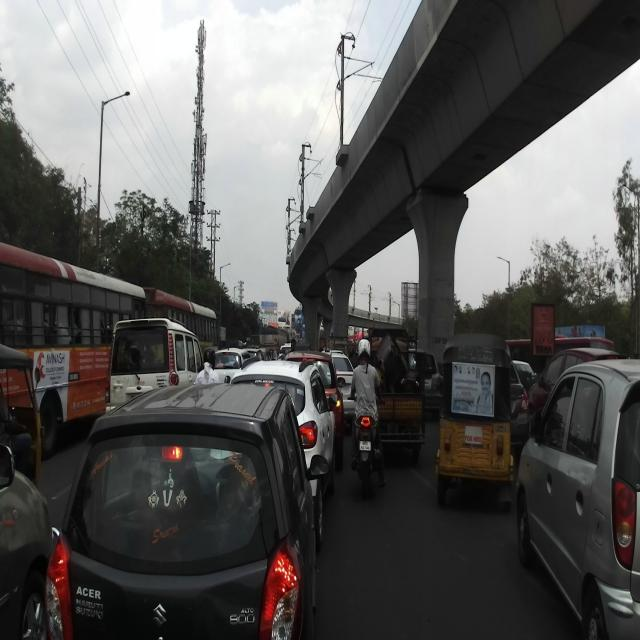Car_Hyundai: (515, 358, 639, 639)
Car_Mahindra: (98, 314, 204, 412)
Car_Maruti-Suzuki: (44, 381, 321, 639)
Car_Renault: (230, 354, 338, 539)
autorickshaw: (436, 331, 516, 510)
bus: (0, 240, 147, 456)
motorcycle_Honda: (347, 394, 385, 501)
